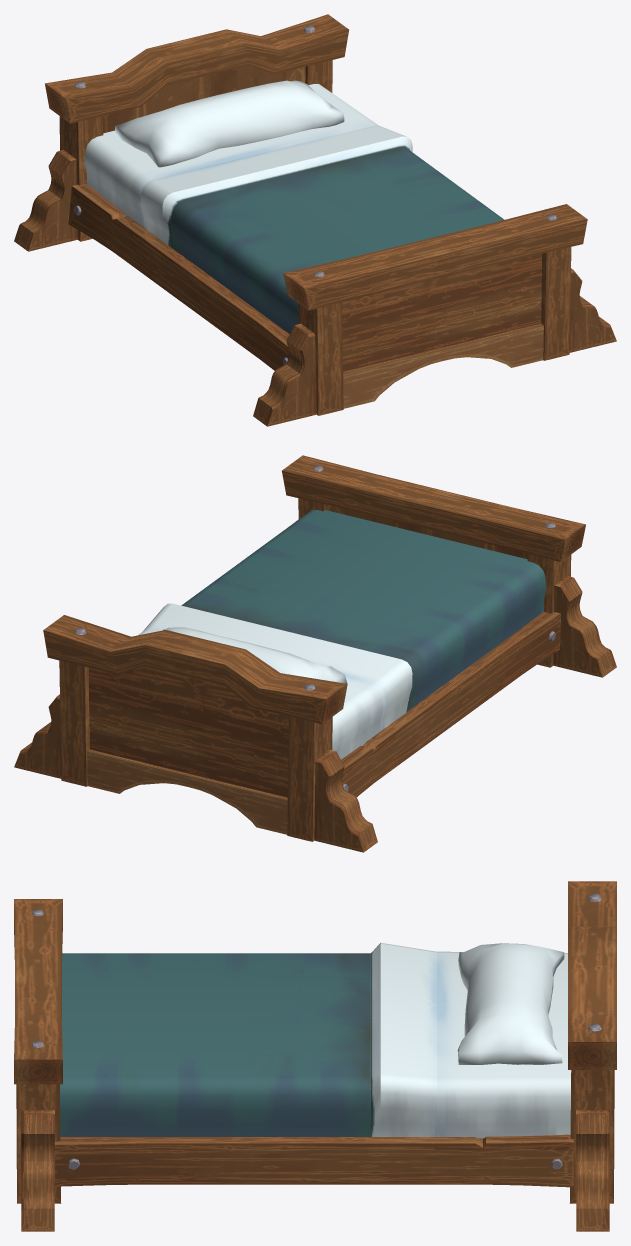
Rendered from bed-twin1.glb.
3 views of the same model, one above another, from view 1: azimuth 30°, elevation 25°; view 2: azimuth 150°, elevation 25°; view 3: azimuth 270°, elevation 25° (orthographic). The views are drawn at different scales.
Visible parts, largest first — view 1: Bed_Twin1; view 2: Bed_Twin1; view 3: Bed_Twin1.
Boxes of the visible parts, x1=… form: Bed_Twin1: x1=14, y1=14, x2=616, y2=426; Bed_Twin1: x1=14, y1=455, x2=616, y2=852; Bed_Twin1: x1=14, y1=881, x2=616, y2=1231.
Size of the model in its own units: 1.88 by 0.8051 by 2.41.
Materials: 3 (3 with a texture image).
